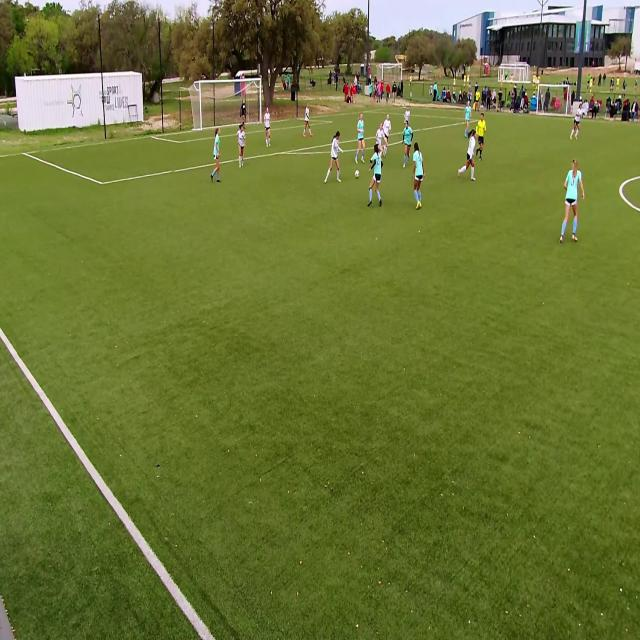ball: (355, 170, 360, 180)
team1: (564, 161, 583, 241), (412, 140, 427, 209), (369, 143, 385, 207), (356, 111, 368, 165), (212, 129, 223, 186), (402, 124, 414, 170), (465, 102, 474, 136)
team2: (326, 131, 344, 184), (462, 131, 478, 182), (572, 107, 584, 142), (264, 107, 274, 148), (237, 124, 246, 166), (384, 113, 392, 158), (304, 106, 313, 140), (374, 123, 384, 144), (404, 105, 412, 122)
